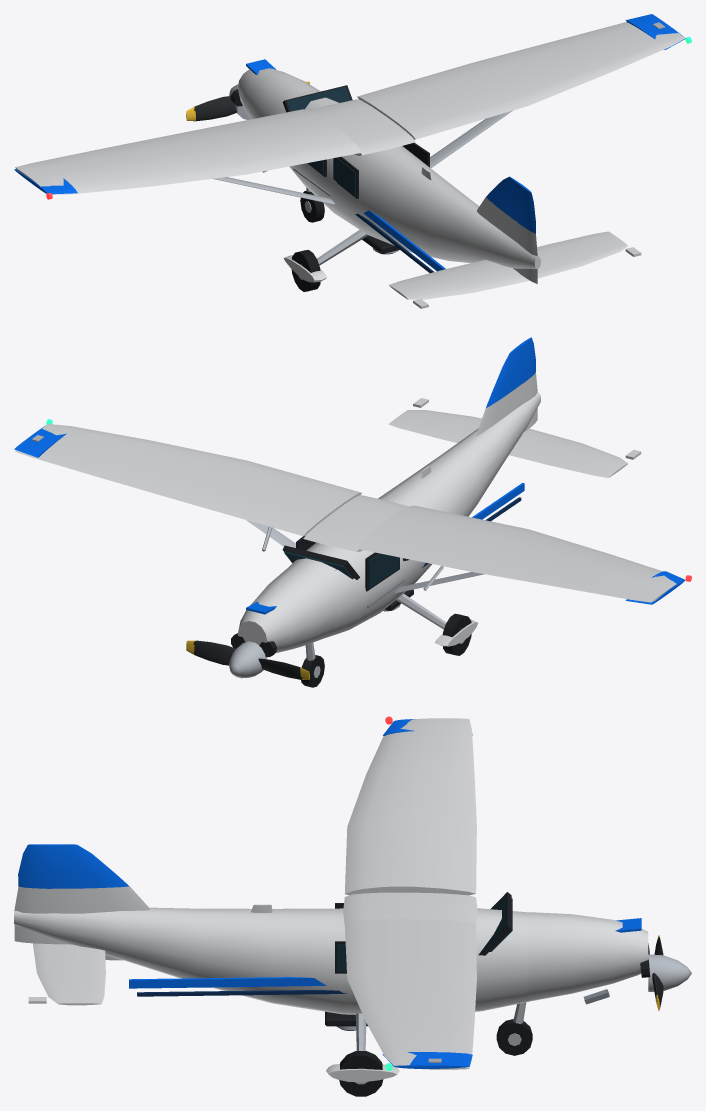
The model's file is aircraft.glb.
3 renders of one model, top to bottom at view 1: azimuth 30°, elevation 25°; view 2: azimuth 150°, elevation 25°; view 3: azimuth 270°, elevation 25°, orthographic. The views are drawn at different scales.
Visible parts, largest first — view 1: wing, fuselage, cowl, prop; view 2: wing, fuselage, cowl, prop; view 3: fuselage, wing, cowl, prop.
Part boxes in pixels (box(x1,y1,x2,y2)): wing: box(14, 14, 691, 204); fuselage: box(282, 85, 641, 308); cowl: box(231, 59, 320, 119); prop: box(186, 81, 309, 121); wing: box(14, 419, 691, 604); fuselage: box(282, 337, 641, 687); cowl: box(231, 564, 337, 657); prop: box(186, 640, 309, 679); fuselage: box(14, 844, 532, 1096); wing: box(343, 716, 477, 1071); cowl: box(528, 912, 650, 1004); prop: box(648, 935, 691, 1010).
Size of the model in its own units: 10.04 by 2.81 by 8.26.
